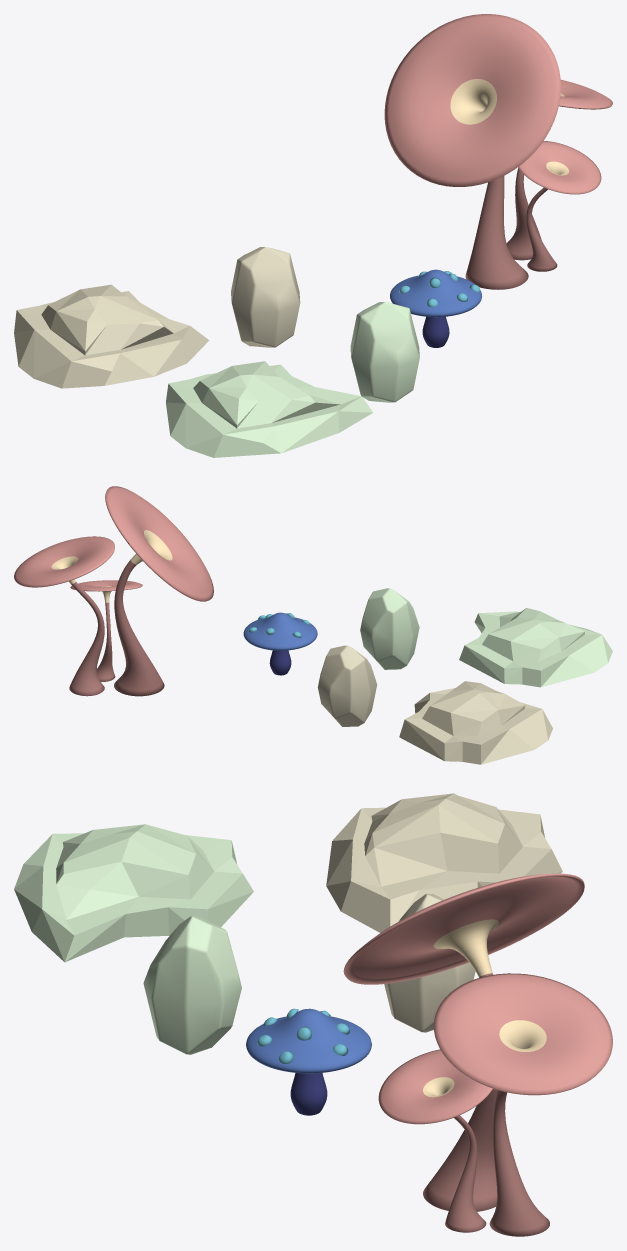
File: background2.fbx
3 views of the same model, one above another, from view 1: azimuth 30°, elevation 25°; view 2: azimuth 150°, elevation 25°; view 3: azimuth 270°, elevation 25° (orthographic). The views are drawn at different scales.
Visible parts, largest first — view 1: 圓形, 立方體.022, 立方體.020, 立方體.021, 立方體.019, 圓形.002, 圓形.003, 圓形.001; view 2: 立方體.022, 圓形, 立方體.020, 圓形.001, 立方體.021, 立方體.019, 圓形.003, 圓形.002; view 3: 立方體.020, 圓形.001, 立方體.022, 圓形, 立方體.019, 圓形.002, 圓形.003, 立方體.021.
Part boxes in pixels (x1=…): 圓形: x1=384, y1=14, x2=560, y2=289; 立方體.022: x1=14, y1=284, x2=209, y2=388; 立方體.020: x1=166, y1=361, x2=373, y2=457; 立方體.021: x1=231, y1=247, x2=300, y2=347; 立方體.019: x1=350, y1=302, x2=419, y2=402; 圓形.002: x1=518, y1=141, x2=601, y2=271; 圓形.003: x1=390, y1=269, x2=481, y2=347; 圓形.001: x1=506, y1=79, x2=612, y2=260; 立方體.022: x1=399, y1=681, x2=552, y2=764; 圓形: x1=105, y1=486, x2=213, y2=696; 立方體.020: x1=459, y1=608, x2=612, y2=687; 圓形.001: x1=14, y1=536, x2=114, y2=696; 立方體.021: x1=317, y1=645, x2=377, y2=726; 立方體.019: x1=360, y1=588, x2=419, y2=669; 圓形.003: x1=243, y1=612, x2=317, y2=675; 圓形.002: x1=70, y1=580, x2=142, y2=681; 立方體.020: x1=14, y1=824, x2=253, y2=962; 圓形.001: x1=433, y1=973, x2=612, y2=1236; 立方體.022: x1=326, y1=793, x2=562, y2=932; 圓形: x1=343, y1=873, x2=584, y2=1211; 立方體.019: x1=143, y1=916, x2=241, y2=1054; 圓形.002: x1=378, y1=1049, x2=492, y2=1232; 圓形.003: x1=246, y1=1008, x2=371, y2=1115; 立方體.021: x1=384, y1=893, x2=475, y2=1032.
Size of the model in its own units: 1621 by 614 by 1005.
